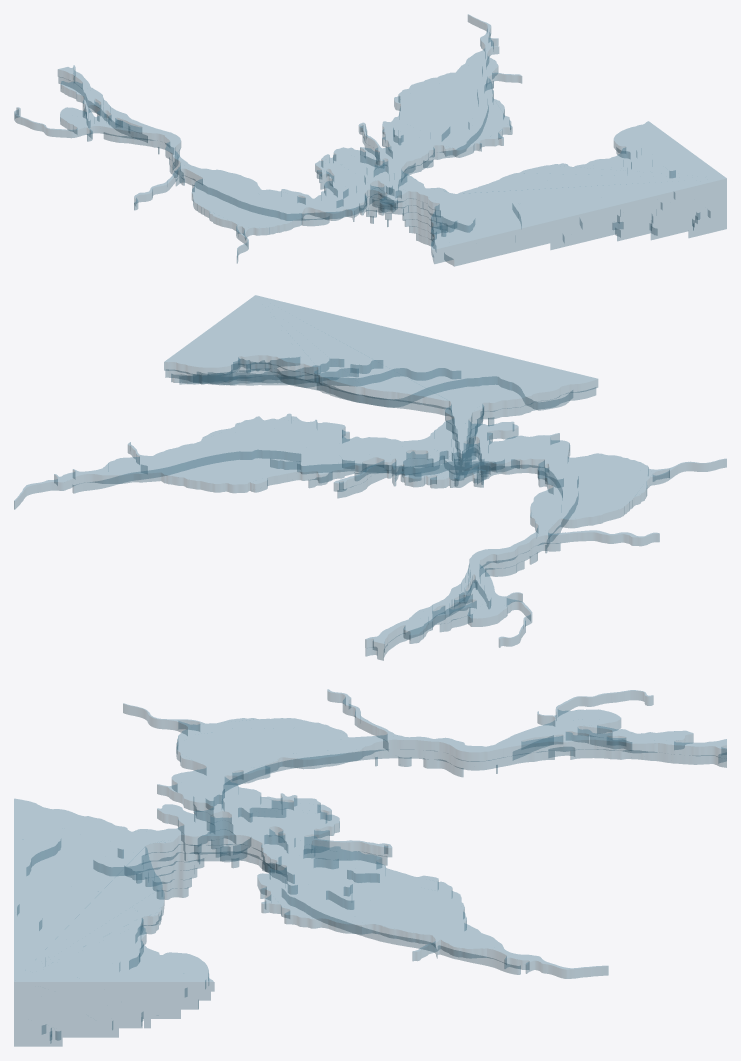
Rendered from water-draco.1cf446bf.glb.
The picture shows the model from 3 angles, top to bottom: view 1: azimuth 30°, elevation 25°; view 2: azimuth 150°, elevation 25°; view 3: azimuth 270°, elevation 25°; orthographic projection. The views are drawn at different scales.
Visible parts, largest first — view 1: water_0; view 2: water_0; view 3: water_0.
Part boxes in pixels (<box>): water_0: <box>14,14,726,266</box>; water_0: <box>14,295,726,660</box>; water_0: <box>14,689,726,1046</box>.
Bounding box in the file's own units: 98.72 × 10.17 × 102.
1 material, 1 textured.
